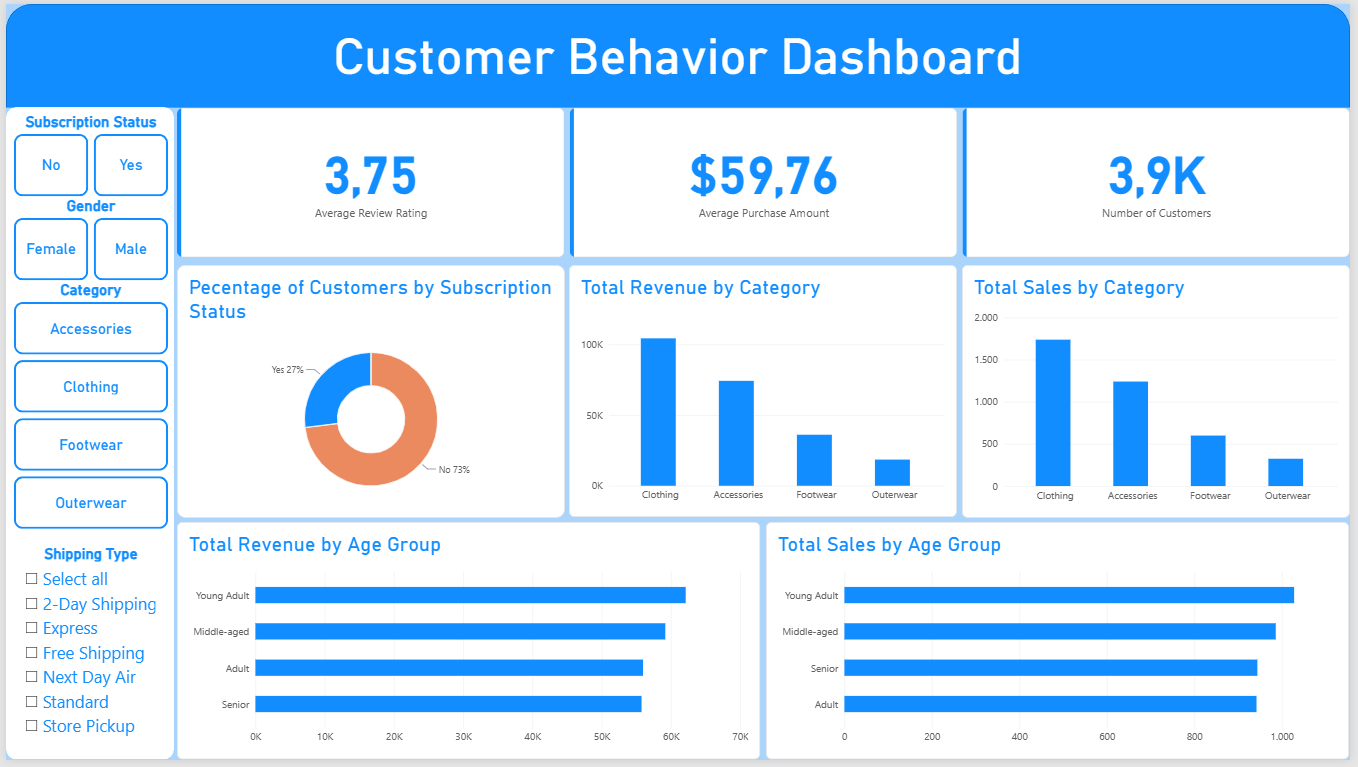

The page's visual inventory and layout, read from the dashboard file:
{"tool":"powerbi","page":{"name":"Page 1","canvas":[1920,1080],"ordinal":0},"visuals":[{"type":"cardVisual","fields":{"Data":["customer_behavior.Average Review Rating","customer_behavior.Average Purchase Amount","customer_behavior.Number of Customers"]},"box":[244.6,148.6,1675.4,213.7],"z":0},{"type":"shape","box":[0,0,1920,148.3],"z":1000},{"type":"textbox","box":[0,33.3,1920,115],"z":2000},{"type":"shape","box":[0,147,240,932.1],"z":3000},{"type":"donutChart","title":"Pecentage of Customers by Subscription Status","fields":{"Category":["customer_behavior.subscription_status"],"Y":["customer_behavior.Number of Customers"]},"box":[244.9,372.9,554.4,360.8],"z":3000,"group":"g3"},{"type":"advancedSlicerVisual","title":"Gender","fields":{"Values":["customer_behavior.gender"]},"box":[10.8,276.3,220,119.1],"z":4000},{"type":"clusteredColumnChart","title":"Total Revenue by Category","fields":{"Category":["customer_behavior.category"],"Y":["Sum(customer_behavior.purchase_amount)"]},"box":[804.7,372.9,554.4,360.4],"z":4000,"group":"g3"},{"type":"group","id":"g1","title":"Group 2","box":[244.9,372.9,1675.4,360.8],"z":5000},{"type":"clusteredColumnChart","title":"Total Sales by Category","fields":{"Category":["customer_behavior.category"],"Y":["CountNonNull(customer_behavior.customer_id)"]},"box":[1365.9,372.9,554.4,360.8],"z":5000,"group":"g3"},{"type":"clusteredBarChart","title":"Total Revenue by Age Group","fields":{"Category":["customer_behavior.age_group"],"Y":["Sum(customer_behavior.purchase_amount)"]},"box":[244.6,740.1,833.5,339.1],"z":6000,"group":"g2"},{"type":"group","id":"g2","title":"Group 3","box":[244.6,740.1,1675.4,339.1],"z":6000},{"type":"advancedSlicerVisual","title":"Subscription Status","fields":{"Values":["customer_behavior.subscription_status"]},"box":[10.8,156.4,220,119.1],"z":7000},{"type":"clusteredBarChart","title":"Total Sales by Age Group","fields":{"Category":["customer_behavior.age_group"],"Y":["CountNonNull(customer_behavior.customer_id)"]},"box":[1086.5,740.1,833.5,339.1],"z":7000,"group":"g2"},{"type":"group","id":"g3","title":"Group 1","box":[244.9,372.9,1675.4,360.8],"z":7001,"group":"g1"},{"type":"advancedSlicerVisual","title":"Category","fields":{"Values":["customer_behavior.category"]},"box":[10.8,396.1,220,355],"z":8000},{"type":"listSlicer","title":"Shipping Type","fields":{"Values":["customer_behavior.shipping_type"]},"box":[10.8,758.7,219.9,308.1],"z":9000}]}

Visuals, with their boxes in screenshot pixels (x1, y1, x2, y2), scaled from the page's 1920x1080 canvas onto the 1358x767 screenshot:
cardVisual - customer_behavior.Average Review Rating x customer_behavior.Average Purchase Amount: left=173, top=106, right=1357, bottom=257
shape: left=0, top=0, right=1357, bottom=105
textbox: left=0, top=24, right=1357, bottom=105
shape: left=0, top=104, right=170, bottom=766
"Pecentage of Customers by Subscription Status" donutChart: left=173, top=265, right=565, bottom=521
"Gender" advancedSlicerVisual: left=8, top=196, right=163, bottom=281
"Total Revenue by Category" clusteredColumnChart: left=569, top=265, right=961, bottom=521
"Group 2" group: left=173, top=265, right=1357, bottom=521
"Total Sales by Category" clusteredColumnChart: left=966, top=265, right=1357, bottom=521
"Total Revenue by Age Group" clusteredBarChart: left=173, top=526, right=763, bottom=766
"Group 3" group: left=173, top=526, right=1357, bottom=766
"Subscription Status" advancedSlicerVisual: left=8, top=111, right=163, bottom=196
"Total Sales by Age Group" clusteredBarChart: left=768, top=526, right=1357, bottom=766
"Group 1" group: left=173, top=265, right=1357, bottom=521
"Category" advancedSlicerVisual: left=8, top=281, right=163, bottom=533
"Shipping Type" listSlicer: left=8, top=539, right=163, bottom=758
